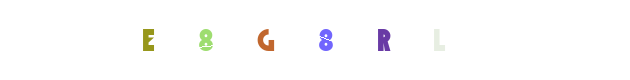8: (167, 0, 247, 80), (276, 0, 356, 80)
E: (107, 0, 187, 80)
G: (225, 0, 305, 80)
L: (343, 0, 423, 80)
R: (290, 0, 370, 80)
